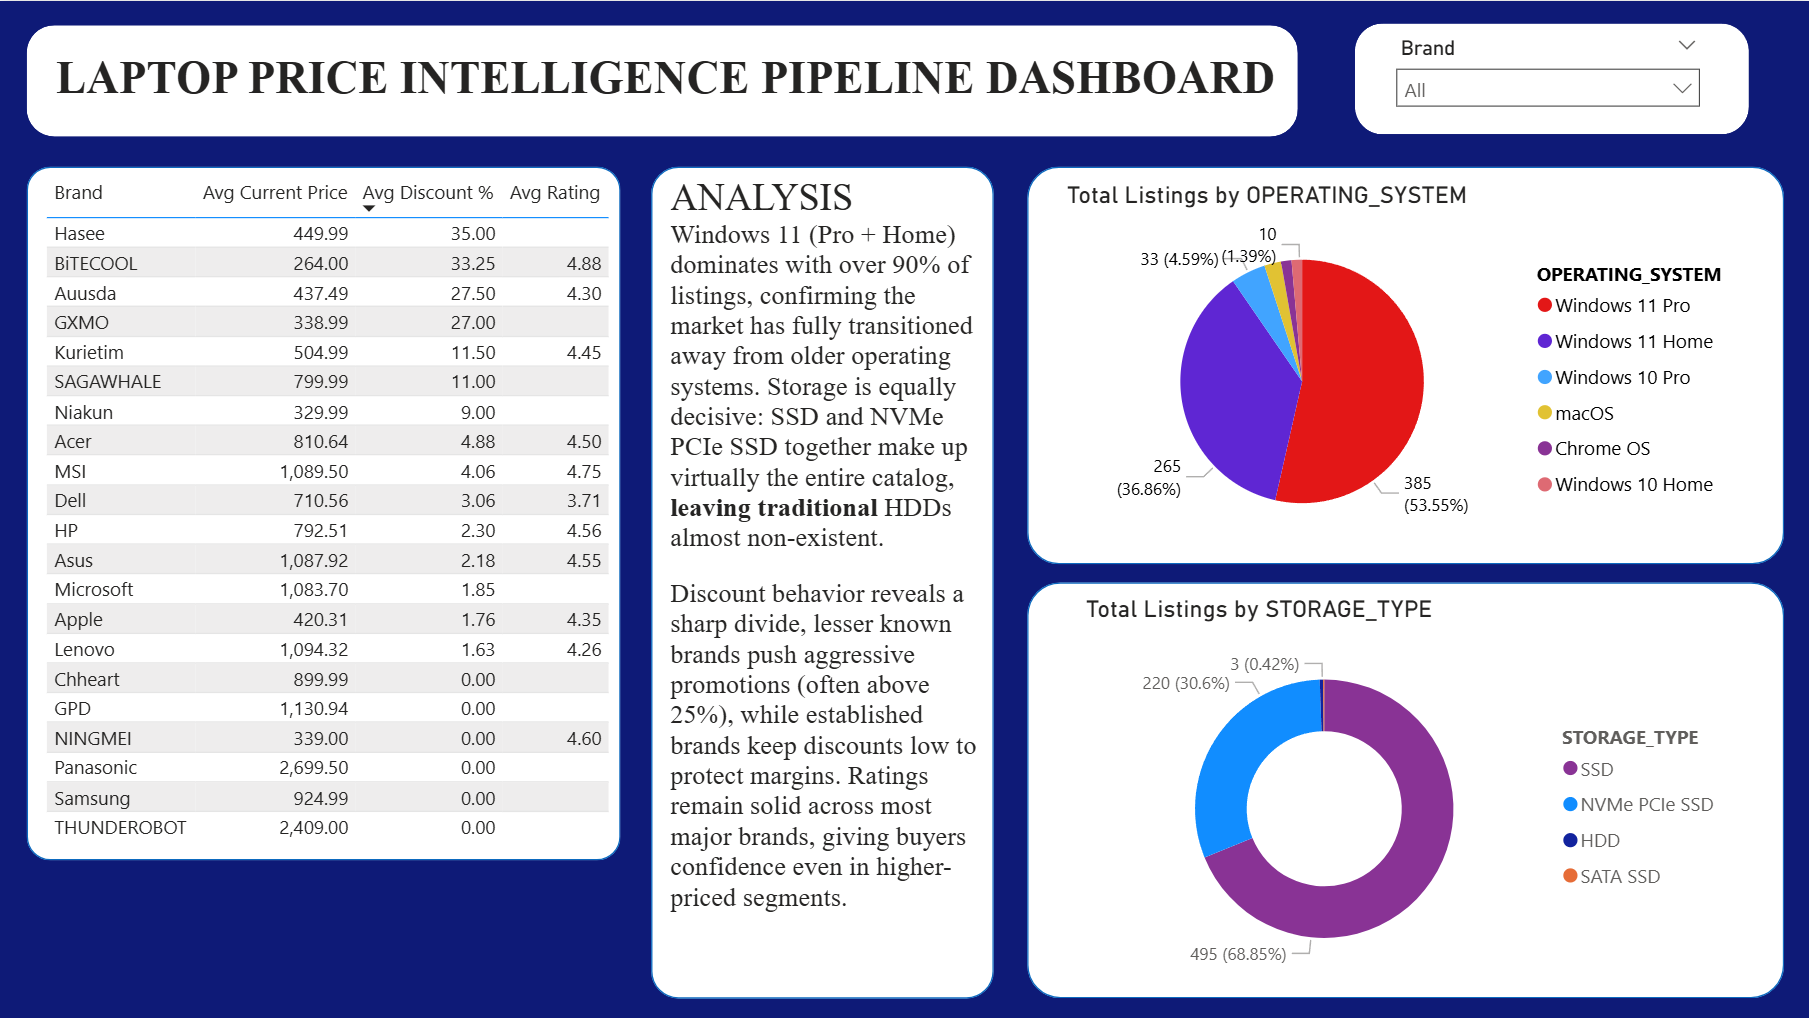

What the dashboard file says about the page in this screenshot:
{"tool":"powerbi","page":{"name":"Page 4","canvas":[1280,720],"ordinal":3},"visuals":[{"type":"shape","box":[20,116.5,420,490.6],"z":0},{"type":"shape","box":[461.2,116.5,242.3,588.2],"z":1000},{"type":"shape","box":[727.1,410.6,535.3,294.1],"z":2000},{"type":"shape","box":[727.1,116.5,535.3,281.2],"z":3000},{"type":"shape","box":[20,16.5,898.8,78.8],"z":4000},{"type":"textbox","box":[35.3,30.6,871.8,55.3],"z":5000},{"type":"tableEx","fields":{"Values":["DIM_BRAND.Brand","_Measures.Avg Current Price","_Measures.Avg Discount %","_Measures.Avg Rating"]},"box":[28.2,120,411.8,487.1],"z":6000},{"type":"pieChart","fields":{"Y":["_Measures.Total Listings"],"Category":["DIM_OS.OPERATING_SYSTEM"]},"box":[749.4,127.1,487.1,264.7],"z":7000},{"type":"donutChart","fields":{"Category":["DIM_STORAGE.STORAGE_TYPE"],"Y":["_Measures.Total Listings"]},"box":[763.5,420,463.5,283.5],"z":8000},{"type":"textbox","box":[469.4,118.8,234.1,555.3],"z":9000},{"type":"shape","box":[958.5,16.5,278.6,78.5],"z":10000},{"type":"slicer","fields":{"Values":["DIM_BRAND.Brand"]},"box":[977.5,19,234.2,76],"z":11000}]}

Visuals, with their boxes in screenshot pixels (x1, y1, x2, y2), scaled from the page's 1280x720 canvas onto the 1809x1018 screenshot:
shape: [28, 165, 622, 858]
shape: [652, 165, 994, 996]
shape: [1028, 581, 1784, 996]
shape: [1028, 165, 1784, 562]
shape: [28, 23, 1299, 135]
textbox: [50, 43, 1282, 121]
tableEx - DIM_BRAND.Brand x _Measures.Avg Current Price: [40, 170, 622, 858]
pieChart - _Measures.Total Listings x DIM_OS.OPERATING_SYSTEM: [1059, 180, 1748, 554]
donutChart - DIM_STORAGE.STORAGE_TYPE x _Measures.Total Listings: [1079, 594, 1734, 995]
textbox: [663, 168, 994, 953]
shape: [1355, 23, 1748, 134]
slicer - DIM_BRAND.Brand: [1381, 27, 1712, 134]
